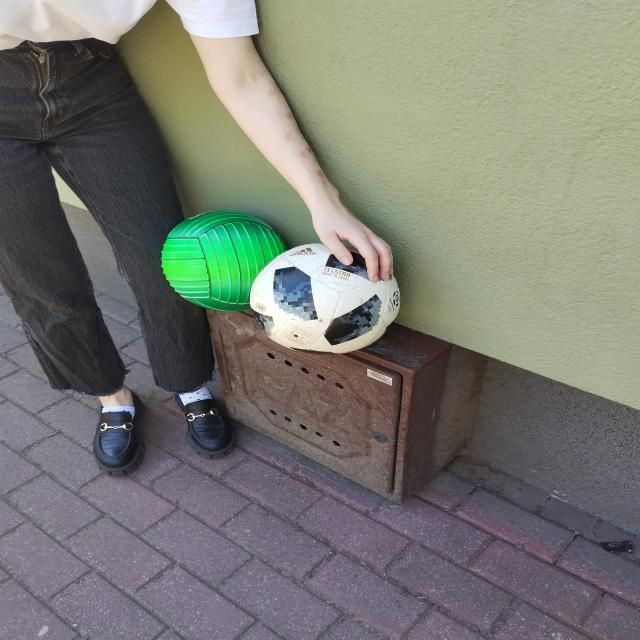nozna: (250, 243, 402, 355)
zielona: (161, 210, 288, 312)
